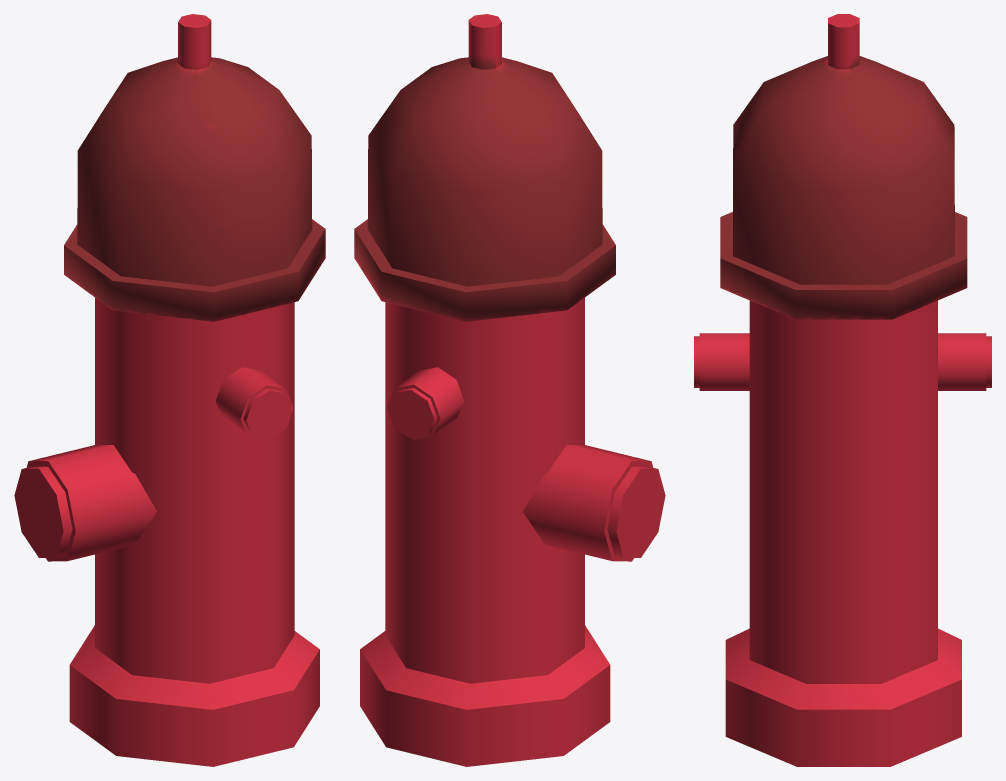
File: StreetStructures_Hidrante.fbx
The picture shows the model from 3 angles, left to right: view 1: azimuth 30°, elevation 25°; view 2: azimuth 150°, elevation 25°; view 3: azimuth 270°, elevation 25°; orthographic projection.
Visible parts, largest first — view 1: Hidrante; view 2: Hidrante; view 3: Hidrante.
Part boxes in pixels (x1=…): Hidrante: x1=14, y1=14, x2=325, y2=766; Hidrante: x1=354, y1=14, x2=665, y2=766; Hidrante: x1=694, y1=14, x2=991, y2=766.
Size of the model in its own units: 72.26 by 183 by 70.76.
